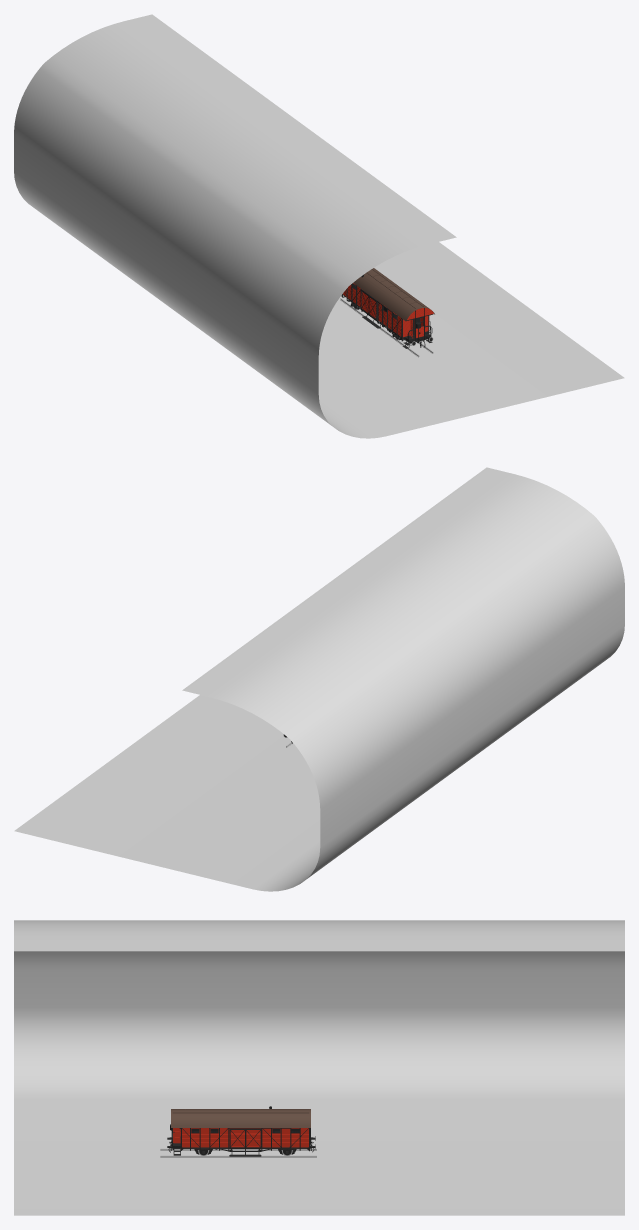
File: wagon.FBX
3 views of the same model, one above another, from view 1: azimuth 30°, elevation 25°; view 2: azimuth 150°, elevation 25°; view 3: azimuth 270°, elevation 25° (orthographic).
Visible parts, largest first — view 1: Layer0_001, Roof_001, Wooden_walls_001, Frame_001; view 2: Layer0_001; view 3: Layer0_001, Roof_001, Wooden_walls_001, Frame_001, Tracks_001, Wagon_doors_001.
Part boxes in pixels (x1,y1,x2,y2): Layer0_001: (14,14,624,438); Roof_001: (353,268,434,321); Wooden_walls_001: (343,283,428,337); Frame_001: (341,284,433,348); Layer0_001: (14,467,624,891); Layer0_001: (14,920,624,1215); Roof_001: (171,1106,310,1127); Wooden_walls_001: (170,1124,308,1147); Frame_001: (167,1128,315,1156); Tracks_001: (160,1148,316,1157); Wagon_doors_001: (229,1129,261,1148).
Size of the model in its own units: 1306 by 740 by 2251.
